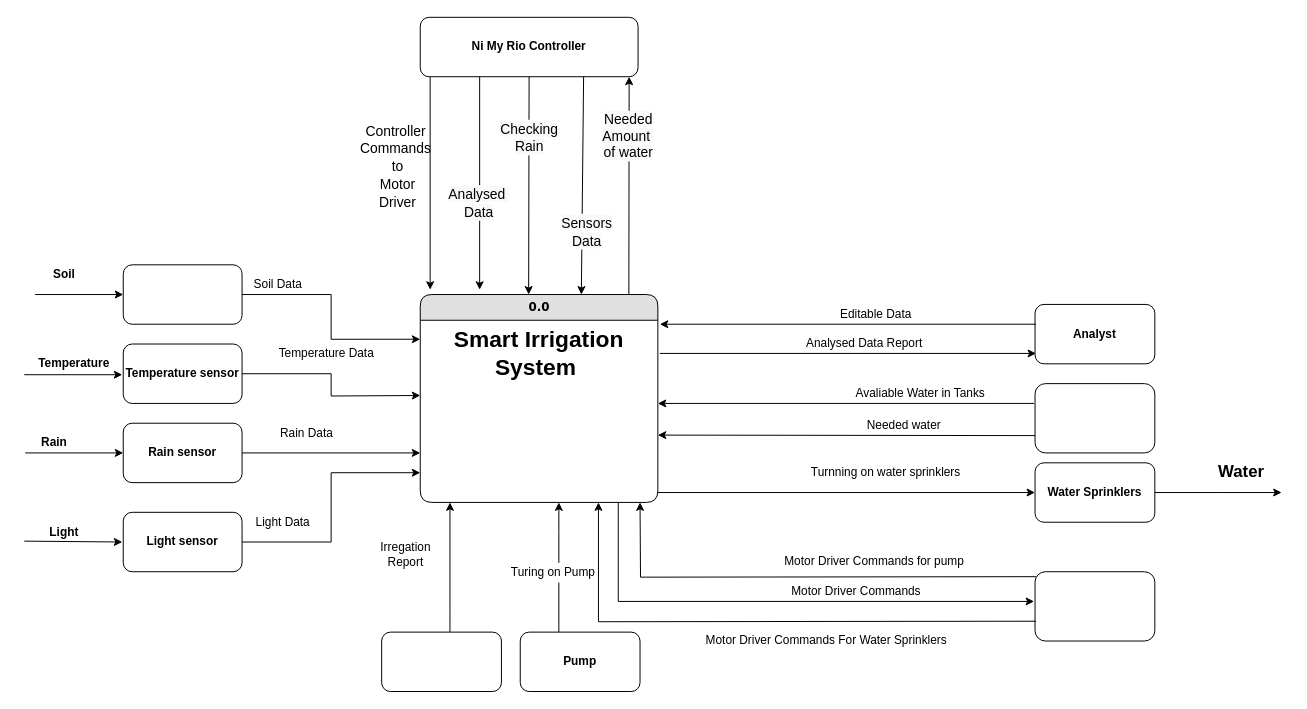
Some shapes in this 1307 by 709 pixel diagram are drawn without their labels. Each missing label, with the box of its shape:
Motor Driver: (1034, 571, 1155, 641)
Soil moisture sensor: (122, 264, 242, 324)
System User: (381, 631, 501, 692)
Water Tanks: (1034, 383, 1155, 453)
